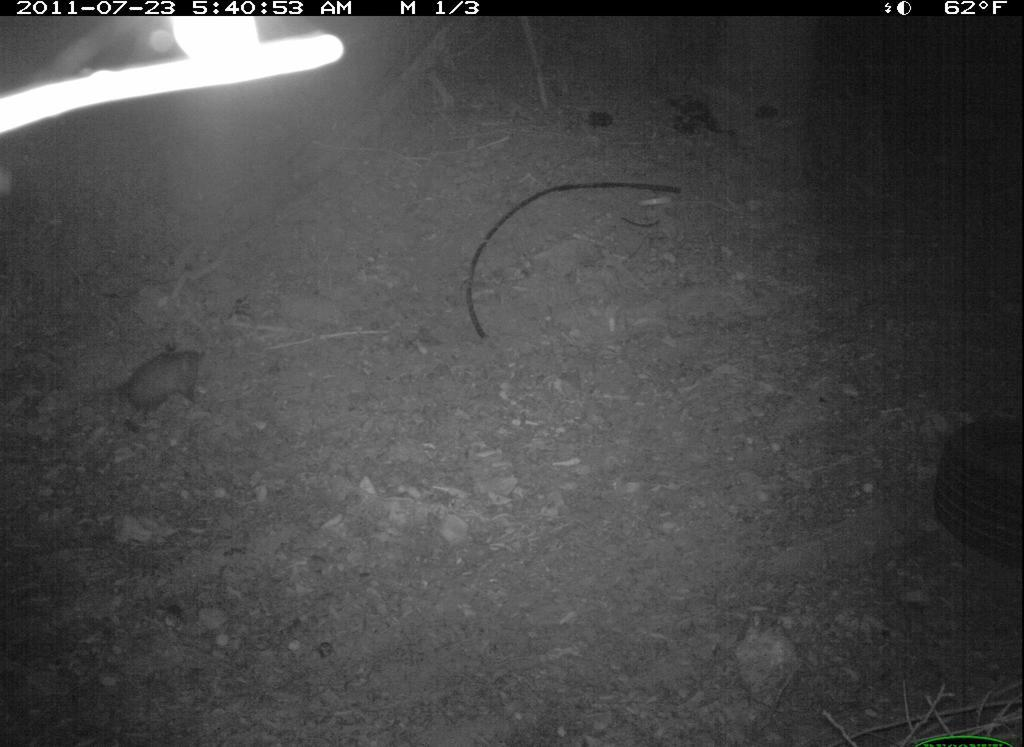opossum: (118, 344, 208, 432)
